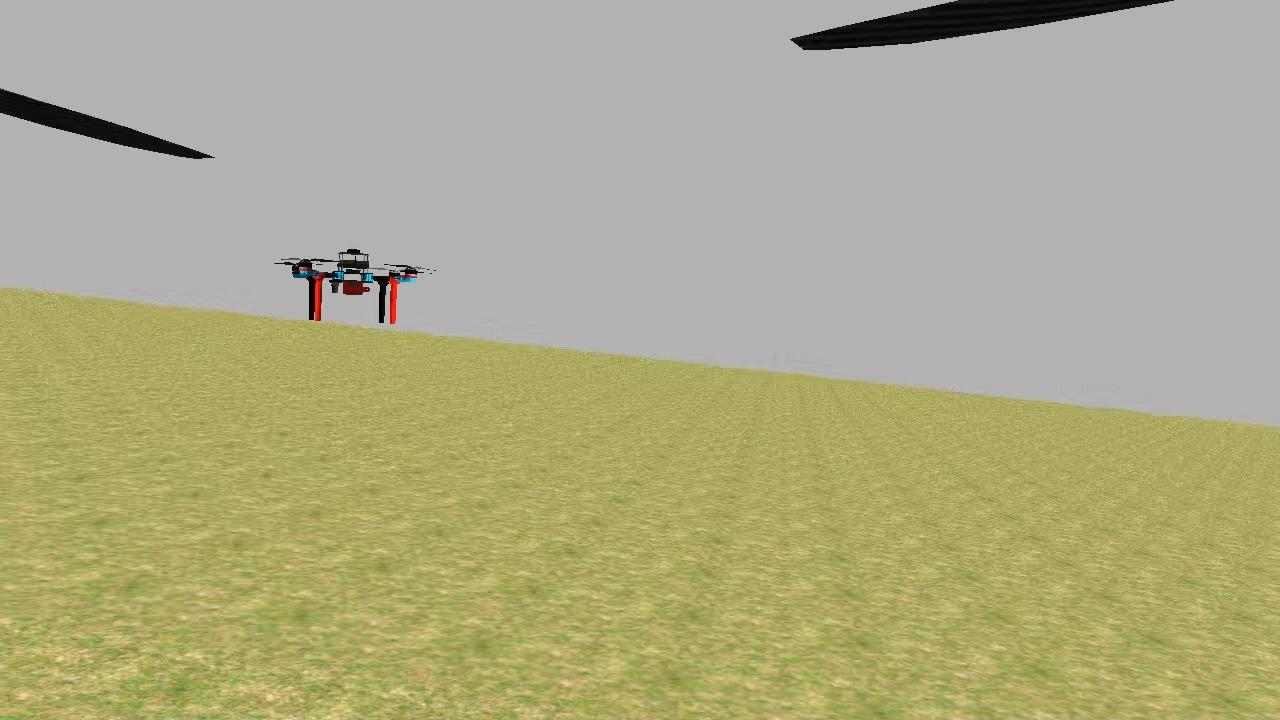UAV: (282, 240, 422, 330)
